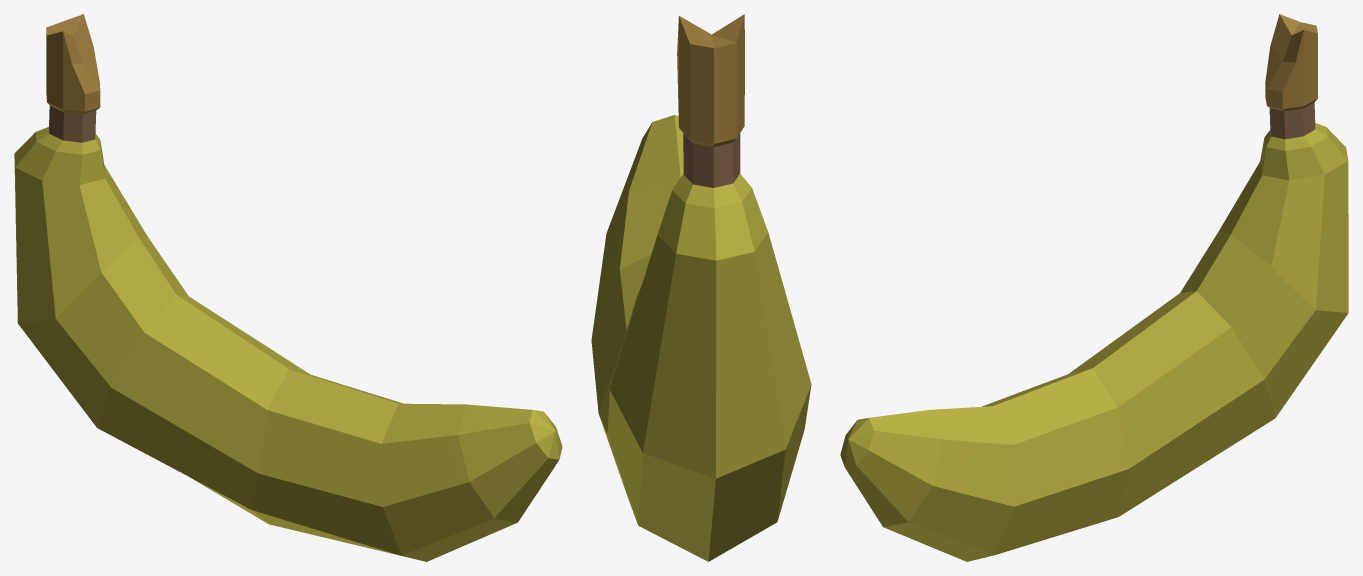
File: Banana_Raw.fbx
3 renders of one model, left to right at view 1: azimuth 30°, elevation 25°; view 2: azimuth 150°, elevation 25°; view 3: azimuth 270°, elevation 25°, orthographic. The views are drawn at different scales.
Visible parts, largest first — view 1: SM_Banana_Raw; view 2: SM_Banana_Raw; view 3: SM_Banana_Raw.
Part boxes in pixels (bbox=[...]): SM_Banana_Raw: bbox=[14, 14, 562, 561]; SM_Banana_Raw: bbox=[591, 14, 811, 561]; SM_Banana_Raw: bbox=[840, 14, 1348, 561].
Bounding box in the file's own units: 13.33 × 18.45 × 18.84.
Materials: 1 (1 with a texture image).
